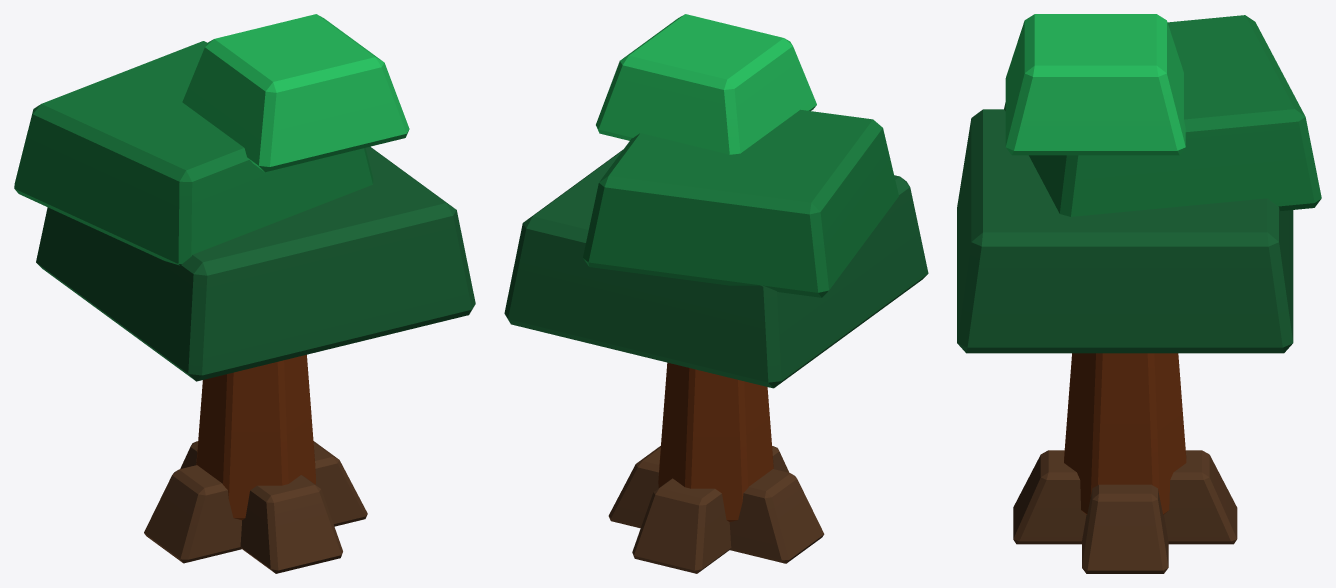
File: tree.glb
3 renders of one model, left to right at view 1: azimuth 30°, elevation 25°; view 2: azimuth 150°, elevation 25°; view 3: azimuth 270°, elevation 25°, orthographic. The views are drawn at different scales.
Visible parts, largest first — view 1: tree; view 2: tree; view 3: tree.
Part boxes in pixels (x1,y1,x2,y2): tree: (14,14,475,573); tree: (504,14,928,573); tree: (957,14,1321,573).
Bounding box in the file's own units: 1.05 × 1.5 × 0.99.
